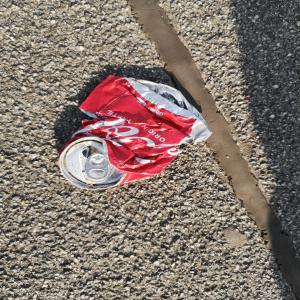Can: (58, 75, 215, 193)
